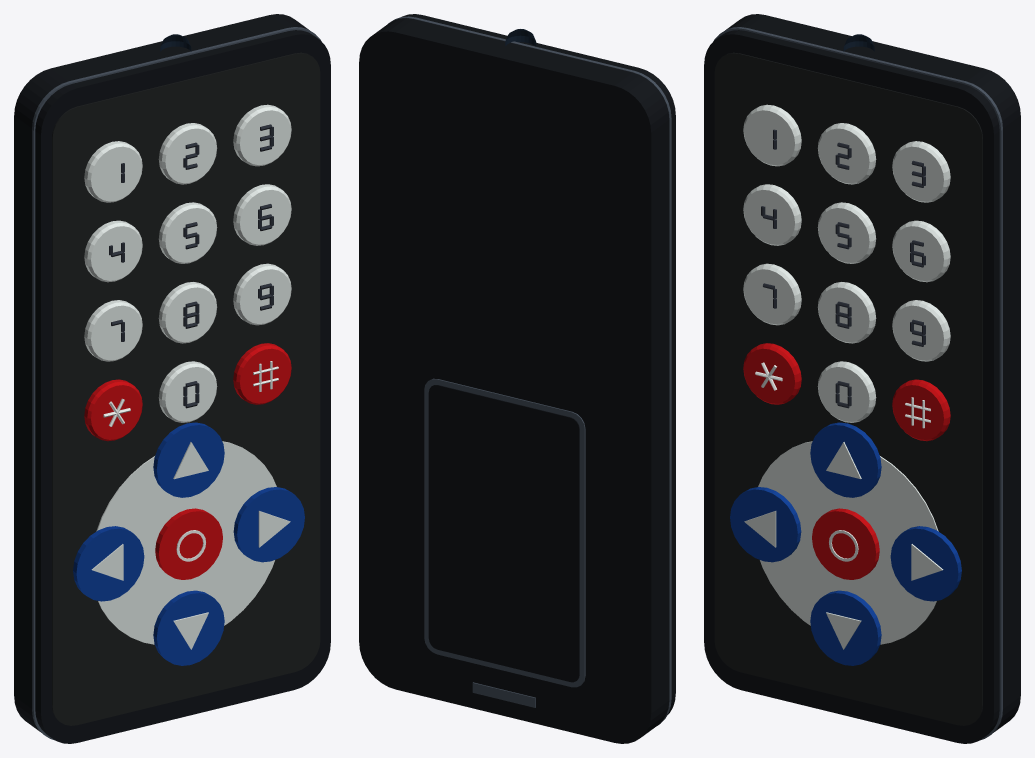
Rendered from ir_remote_transmitter.obj.
3 renders of one model, left to right at view 1: azimuth 30°, elevation 25°; view 2: azimuth 150°, elevation 25°; view 3: azimuth 330°, elevation 25°, orthographic.
Visible parts, largest first — view 1: ir_remote_transmitter; view 2: ir_remote_transmitter; view 3: ir_remote_transmitter.
Boxes of the visible parts, x1,y1,x2,y2 form: ir_remote_transmitter: (14, 14, 330, 743); ir_remote_transmitter: (359, 14, 675, 743); ir_remote_transmitter: (704, 14, 1020, 743).
Size of the model in its own units: 0.9083 by 2 by 0.1797.
